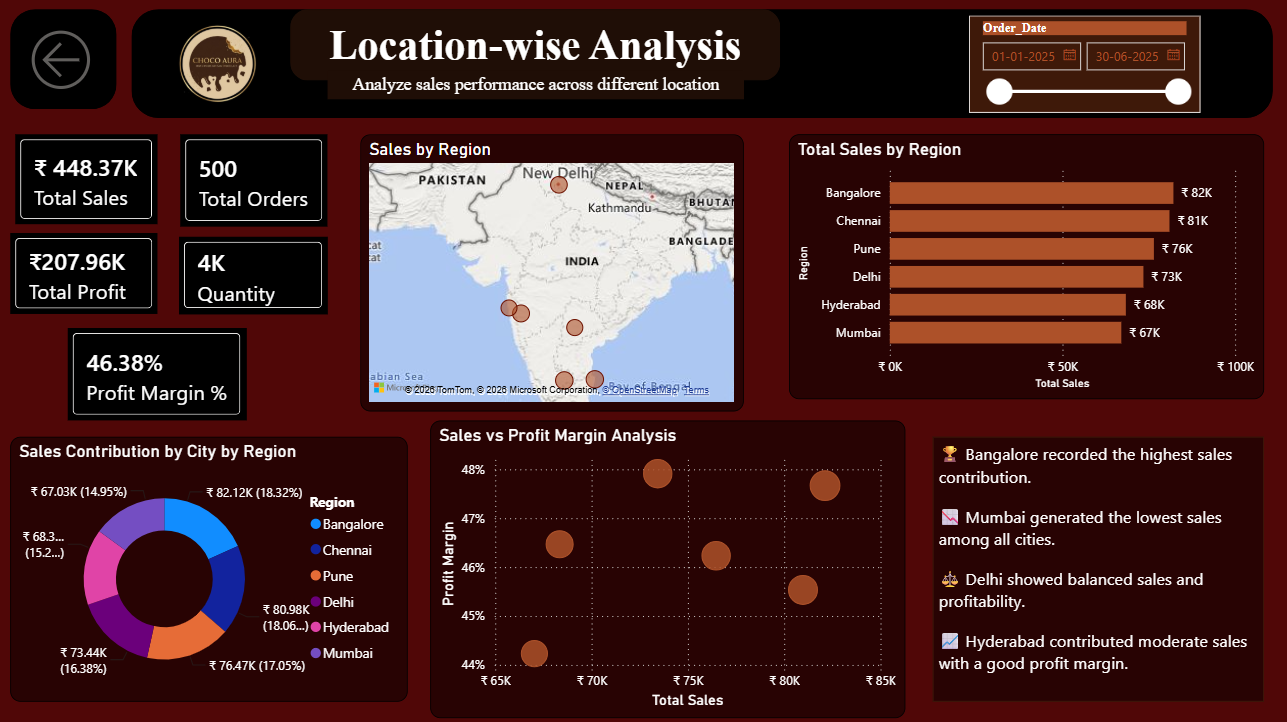

What the dashboard file says about the page in this screenshot:
{"tool":"powerbi","page":{"name":"Location-wise analysis","canvas":[1280,720],"ordinal":3},"visuals":[{"type":"shape","box":[15.9,15.9,103.9,97.8],"z":0},{"type":"actionButton","box":[29.3,26.9,72.1,77],"z":1000},{"type":"shape","box":[134.5,15.9,1116.4,106.4],"z":2000},{"type":"image","box":[148,0,141.8,138.2],"z":3000},{"type":"shape","box":[289.8,15.9,479.4,69.7],"z":4000},{"type":"shape","box":[326.5,75.8,407.2,28.1],"z":5000},{"type":"cardVisual","fields":{"Data":["Sum(Sales_Data.Total_Sales)"]},"box":[20.8,138.2,139.4,88],"z":6000},{"type":"cardVisual","fields":{"Data":["Sales_Data.Total Orders"]},"box":[182.2,138.2,144.3,90.5],"z":7000},{"type":"cardVisual","fields":{"Data":["Sales_Data.Profit Margin %"]},"box":[72.1,327.7,174.9,90.5],"z":8000},{"type":"cardVisual","fields":{"Data":["Sales_Data.Total Profit"]},"box":[15.9,234.8,144.3,79.5],"z":9000},{"type":"cardVisual","fields":{"Data":["Sales_Data.Total Quantity Sold"]},"box":[181,238.5,145.5,75.8],"z":10000},{"type":"map","title":"Sales by Region","fields":{"Category":["Sales_Data.Region"],"Size":["Sum(Sales_Data.Total_Sales)"]},"box":[358.3,138.2,375.4,271.5],"z":11000},{"type":"clusteredBarChart","fields":{"Category":["Sales_Data.Region"],"Y":["Sum(Sales_Data.Total_Sales)"]},"box":[777.7,138.2,464.7,259.2],"z":12000},{"type":"scatterChart","title":"Sales vs Profit Margin Analysis","fields":{"X":["Sum(Sales_Data.Total_Sales)"],"Category":["Sales_Data.Region"],"Size":["Sum(Sales_Data.Profit)"],"Y":["Sales_Data.Profit Margin"]},"box":[426.8,418.2,464.7,291],"z":13000},{"type":"donutChart","fields":{"Category":["Sales_Data.Region"],"Y":["Sum(Sales_Data.Total_Sales)"]},"box":[15.9,434.1,388.9,259.2],"z":14000},{"type":"textbox","box":[918.3,434.1,324.1,259.2],"z":15000},{"type":"slicer","fields":{"Values":["Sales_Data.Order_Date"]},"box":[953.8,22,226.2,95.4],"z":16000}]}

Visuals, with their boxes in screenshot pixels (x1, y1, x2, y2), scaled from the page's 1280x720 canvas onto the 1287x722 screenshot:
shape: (left=16, top=16, right=120, bottom=114)
actionButton: (left=29, top=27, right=102, bottom=104)
shape: (left=135, top=16, right=1258, bottom=123)
image: (left=149, top=0, right=291, bottom=139)
shape: (left=291, top=16, right=773, bottom=86)
shape: (left=328, top=76, right=738, bottom=104)
cardVisual - Sum(Sales_Data.Total_Sales): (left=21, top=139, right=161, bottom=227)
cardVisual - Sales_Data.Total Orders: (left=183, top=139, right=328, bottom=229)
cardVisual - Sales_Data.Profit Margin %: (left=72, top=329, right=248, bottom=419)
cardVisual - Sales_Data.Total Profit: (left=16, top=235, right=161, bottom=315)
cardVisual - Sales_Data.Total Quantity Sold: (left=182, top=239, right=328, bottom=315)
"Sales by Region" map: (left=360, top=139, right=738, bottom=411)
clusteredBarChart - Sales_Data.Region x Sum(Sales_Data.Total_Sales): (left=782, top=139, right=1249, bottom=399)
"Sales vs Profit Margin Analysis" scatterChart: (left=429, top=419, right=896, bottom=711)
donutChart - Sales_Data.Region x Sum(Sales_Data.Total_Sales): (left=16, top=435, right=407, bottom=695)
textbox: (left=923, top=435, right=1249, bottom=695)
slicer - Sales_Data.Order_Date: (left=959, top=22, right=1186, bottom=118)
